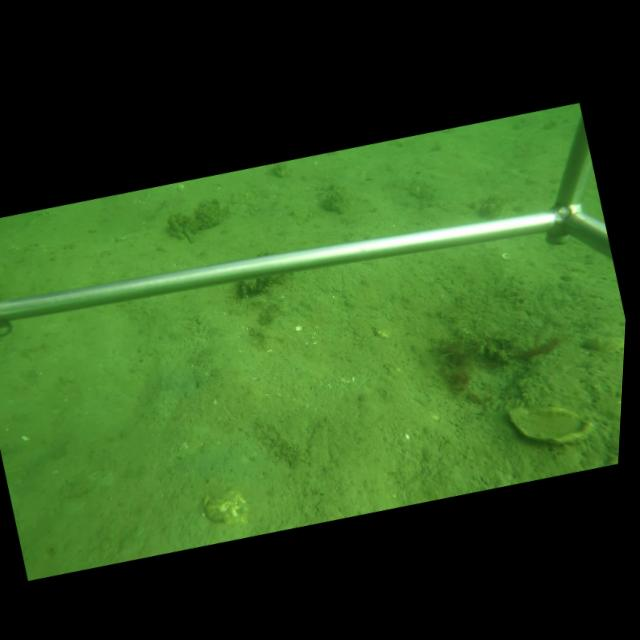Oyster-Closed: (180, 221, 198, 245)
Oyster-Indeterminate: (506, 407, 595, 447)
